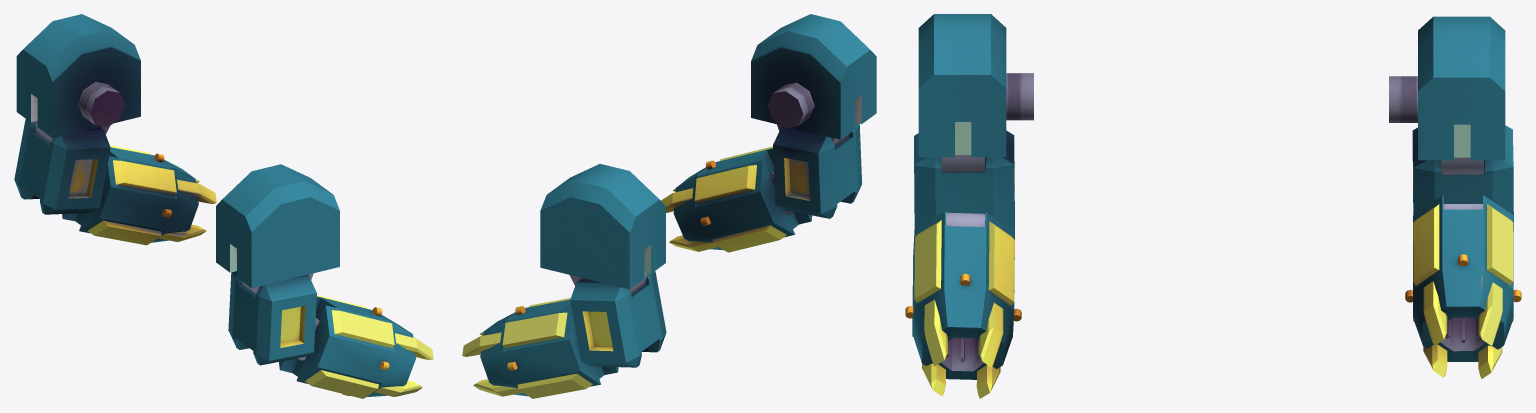
File: Player_Idle5.obj
3 views of the same model, side by side, from view 1: azimuth 30°, elevation 25°; view 2: azimuth 150°, elevation 25°; view 3: azimuth 270°, elevation 25° (orthographic). The views are drawn at different scales.
Parts seen in each view (by area): view 1: Object005, Object003, Object001, Object007, Object006, Object002; view 2: Object005, Object003, Object001, Object007, Object006, Object002; view 3: Object001, Object007, Object005, Object003, Object002, Object006.
Boxes of the visible parts, left/top/right/bottom form: Object005: left=16, top=14, right=140, bottom=138; Object003: left=216, top=164, right=339, bottom=288; Object001: left=279, top=295, right=433, bottom=398; Object007: left=62, top=145, right=216, bottom=245; Object006: left=14, top=119, right=110, bottom=214; Object002: left=228, top=271, right=316, bottom=365; Object005: left=540, top=164, right=665, bottom=289; Object003: left=751, top=14, right=876, bottom=139; Object001: left=661, top=146, right=812, bottom=252; Object007: left=462, top=298, right=618, bottom=398; Object006: left=569, top=271, right=666, bottom=367; Object002: left=773, top=122, right=862, bottom=218; Object001: left=905, top=211, right=1021, bottom=398; Object007: left=1405, top=195, right=1521, bottom=378; Object005: left=1389, top=16, right=1505, bottom=160; Object003: left=918, top=14, right=1033, bottom=157; Object002: left=914, top=130, right=1014, bottom=231; Object006: left=1412, top=125, right=1513, bottom=230.
Bounding box in the file's own units: 36.79 × 44.79 × 83.7.
1 material, 1 textured.
